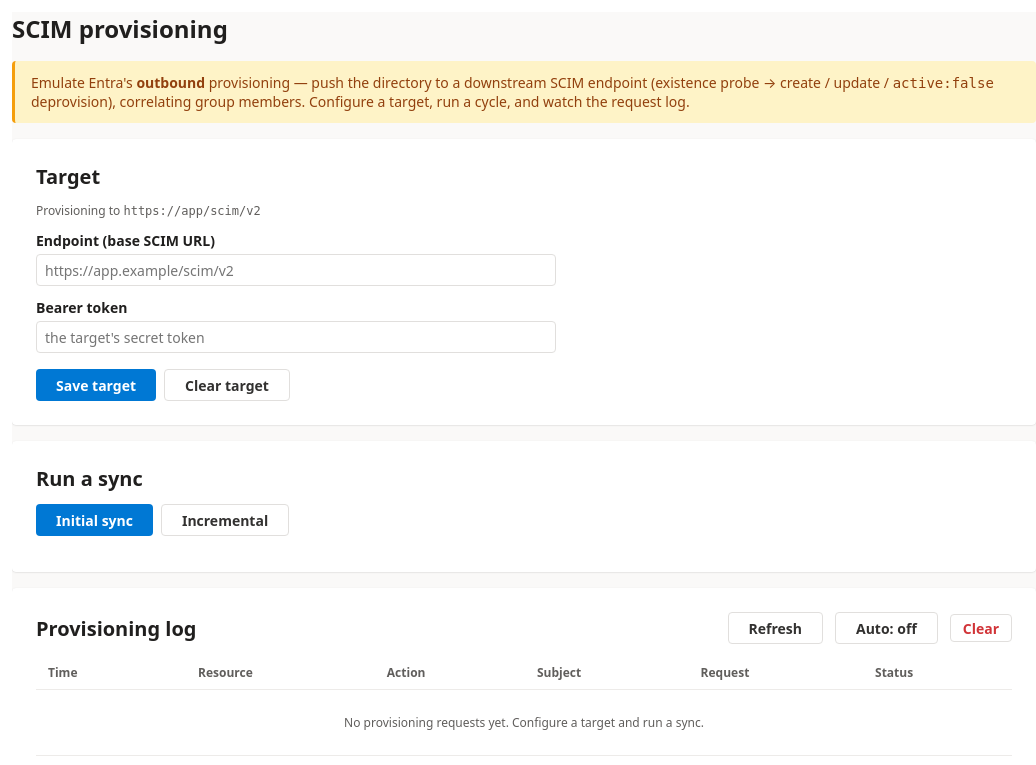
Scenario: SCIM provisioning view › runs an initial sync and shows the result tiles
Expected: the text "https://app/scim/v2" is shown, [123, 204, 261, 218]
Click the button "Initial sync": (94, 520) [36, 504, 153, 536]
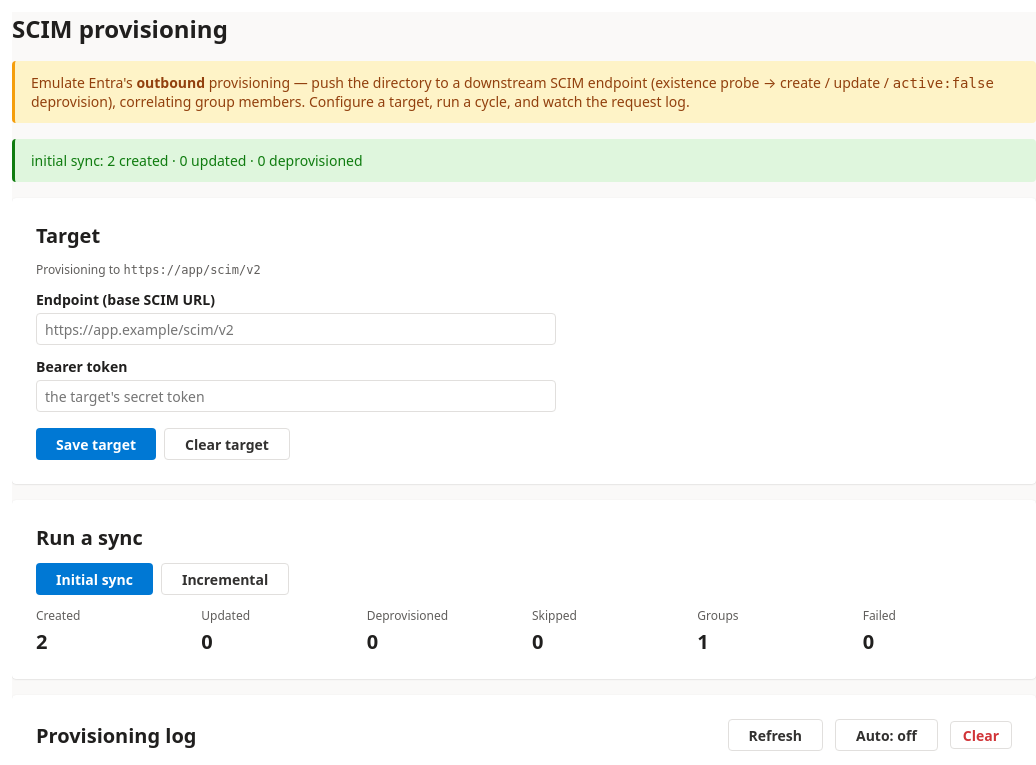
Expected: the text "Created" is shown, [36, 607, 80, 624]
